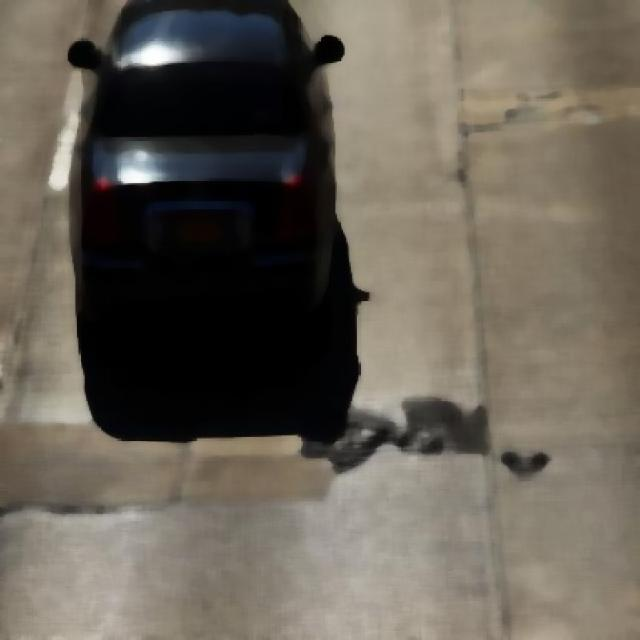Pothole: (307, 400, 487, 465)
